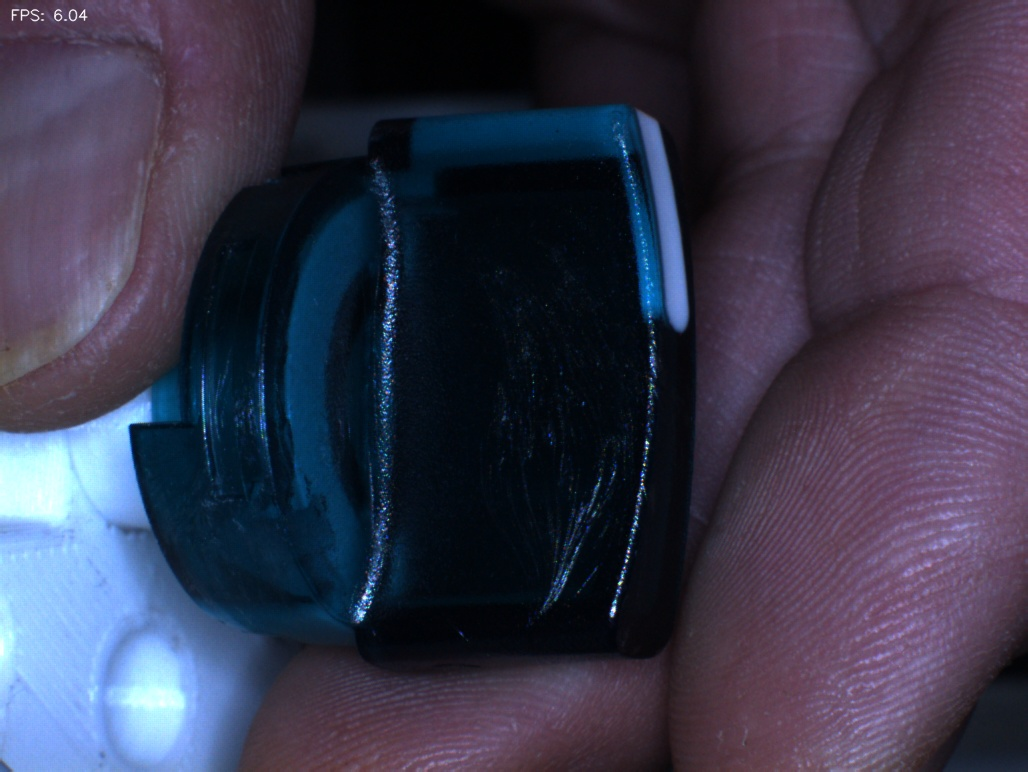Givrage: (489, 258, 636, 617)
